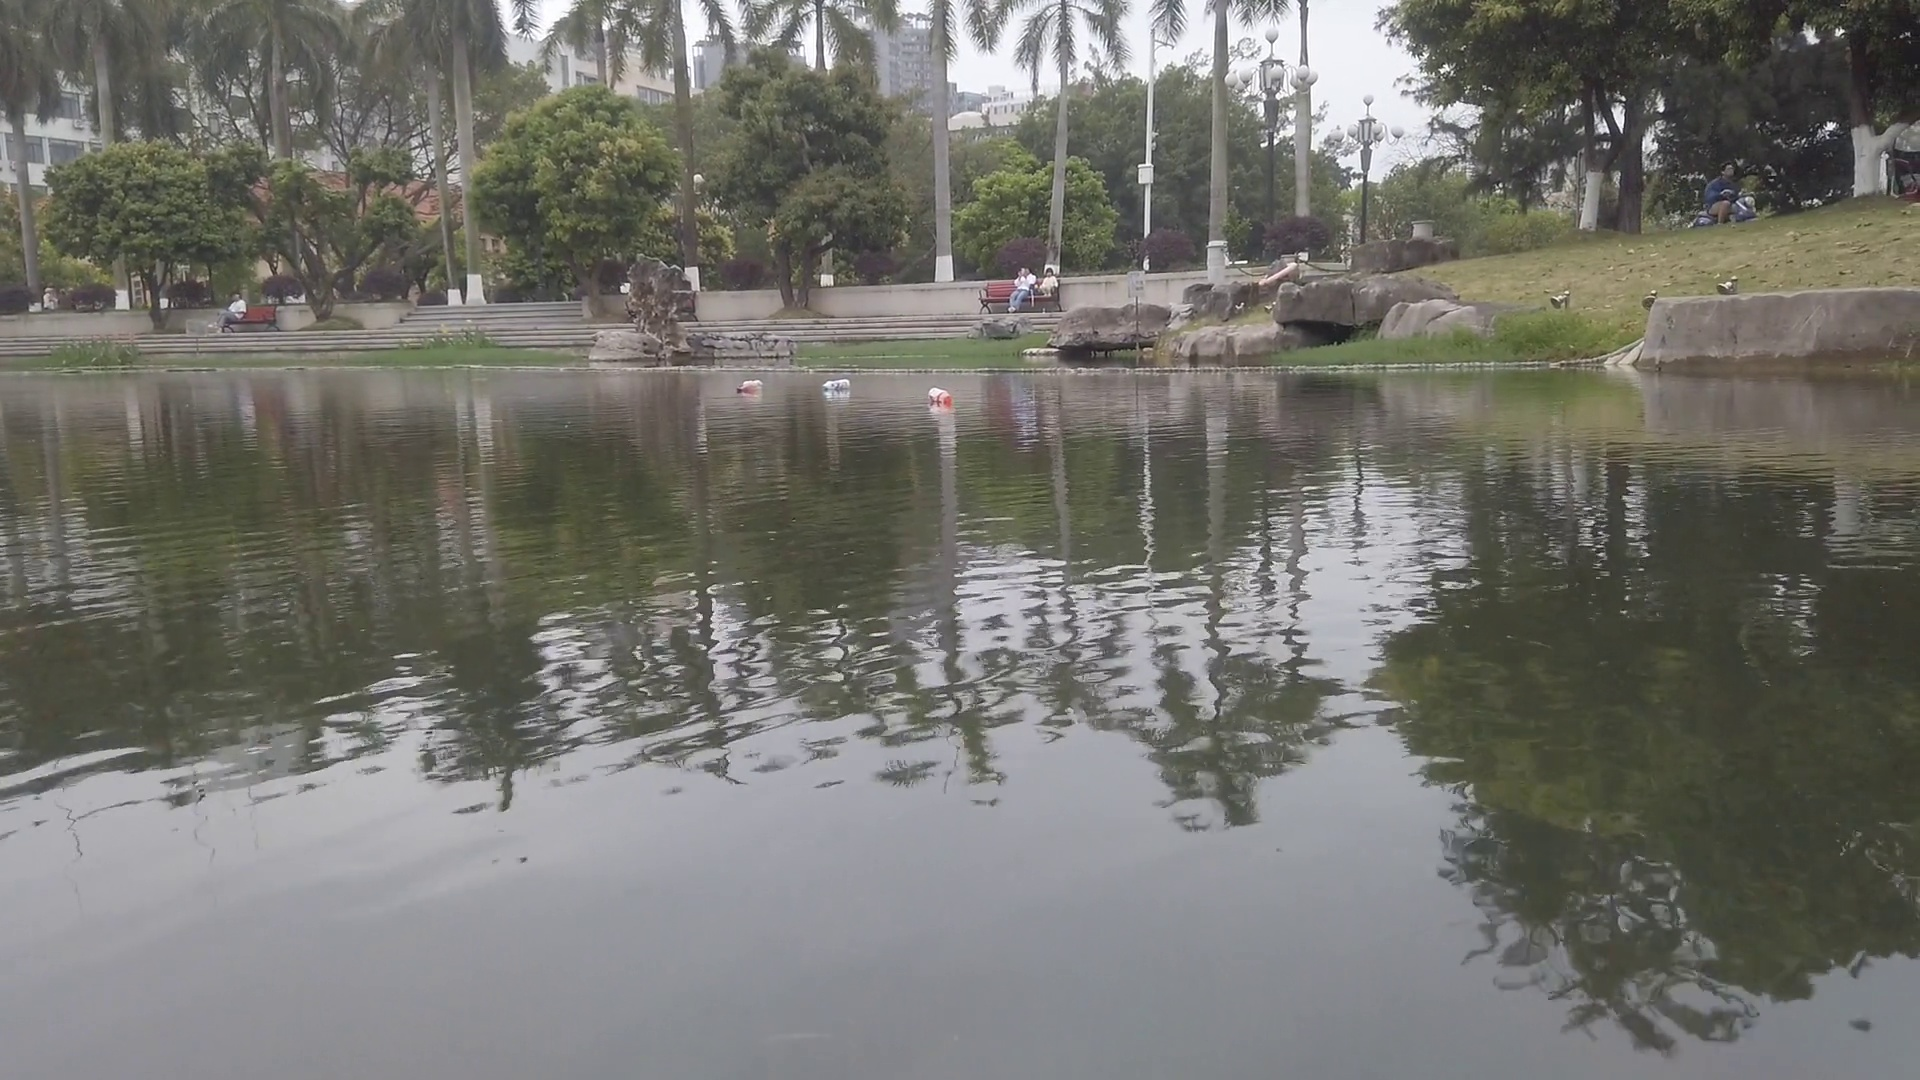bottle: (927, 388, 953, 407), (823, 378, 852, 392), (735, 380, 764, 392)
